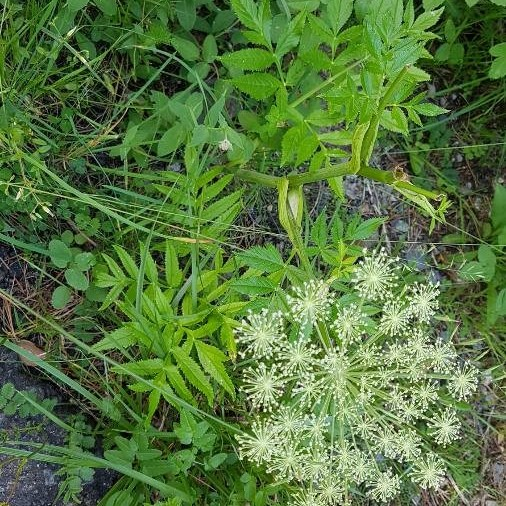obstacle: (100, 32, 491, 491)
